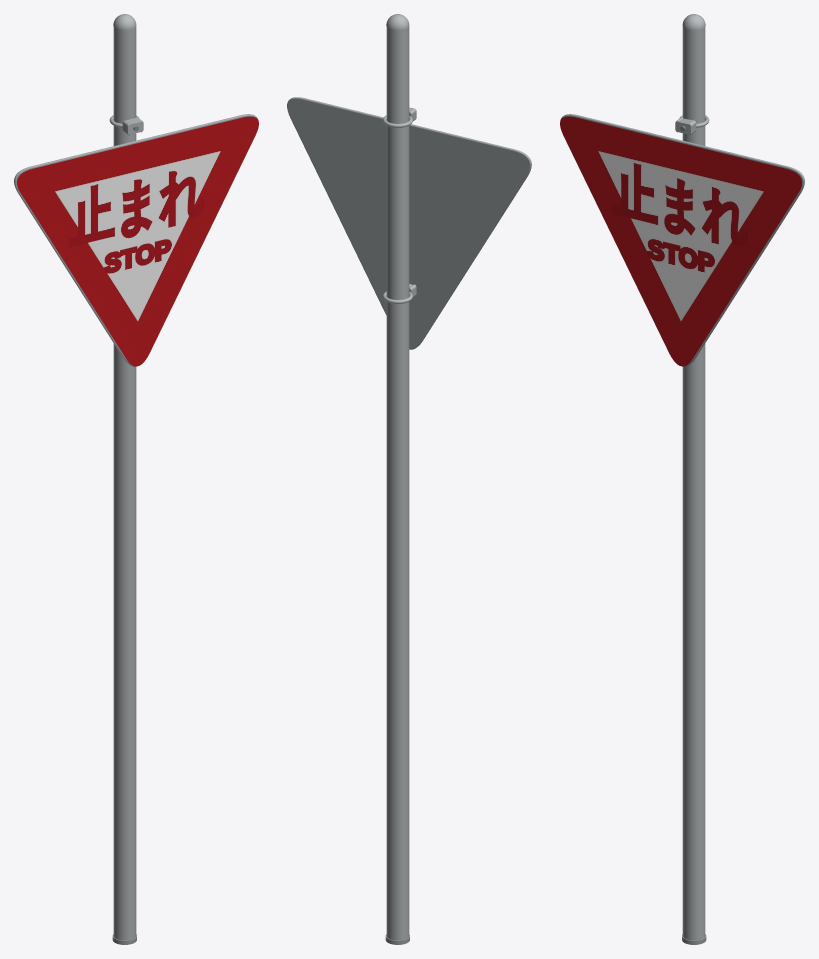
3 renders of one model, left to right at view 1: azimuth 30°, elevation 25°; view 2: azimuth 150°, elevation 25°; view 3: azimuth 330°, elevation 25°, orthographic.
Parts seen in each view (by area): view 1: jp-sign-stop; view 2: jp-sign-stop; view 3: jp-sign-stop.
Part boxes in pixels (left/top/right/bottom): jp-sign-stop: left=14, top=14, right=258, bottom=944; jp-sign-stop: left=287, top=14, right=531, bottom=944; jp-sign-stop: left=560, top=14, right=804, bottom=944.
Bounding box in the file's own units: 0.754 × 2.73 × 0.1108.
5 materials, 1 textured.
